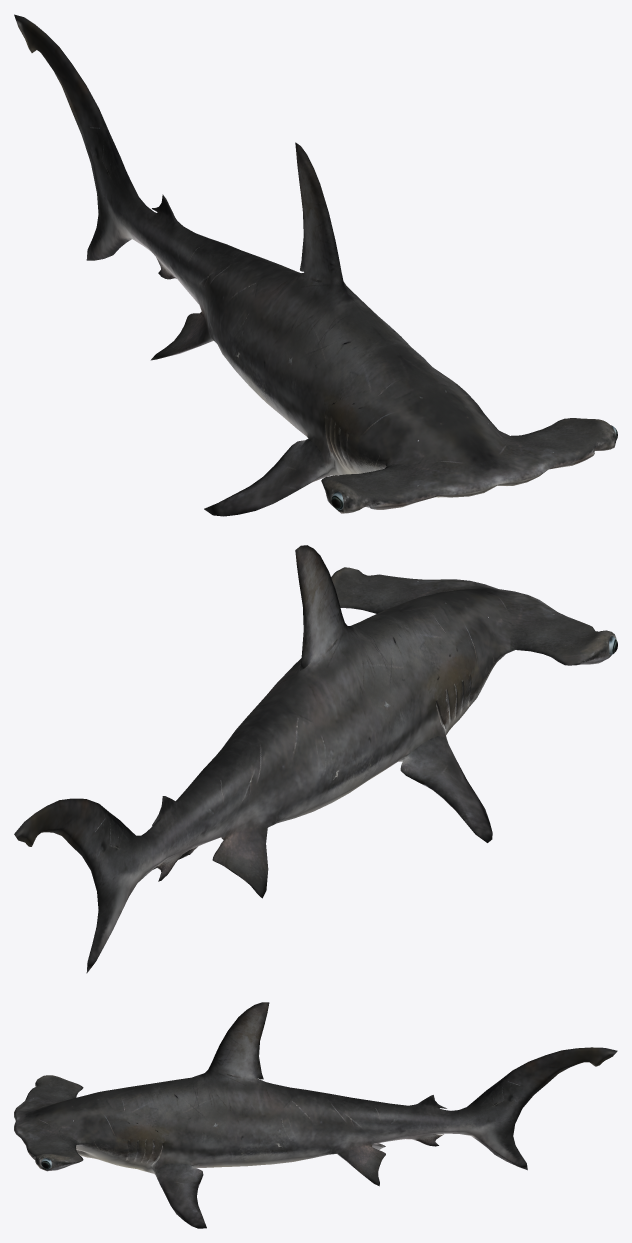
The model's file is hammerhead_shark.glb.
3 views of the same model, one above another, from view 1: azimuth 30°, elevation 25°; view 2: azimuth 150°, elevation 25°; view 3: azimuth 270°, elevation 25° (orthographic). The views are drawn at different scales.
Parts seen in each view (by area): view 1: sm_1_0_0; view 2: sm_1_0_0; view 3: sm_1_0_0.
Boxes of the visible parts, x1,y1,x2,y2 form: sm_1_0_0: (14, 14, 617, 516); sm_1_0_0: (14, 545, 617, 973); sm_1_0_0: (14, 1002, 617, 1228).
Size of the model in its own units: 1.14 by 1.14 by 3.39.
Materials: 1 (1 with a texture image).
